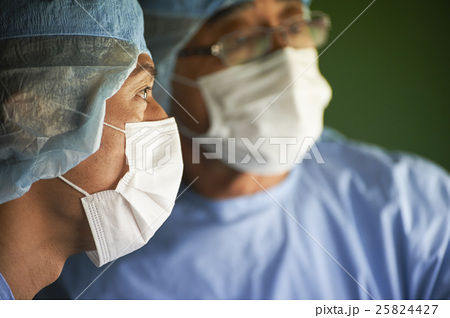mask: (197, 52, 341, 162), (98, 124, 185, 244)
